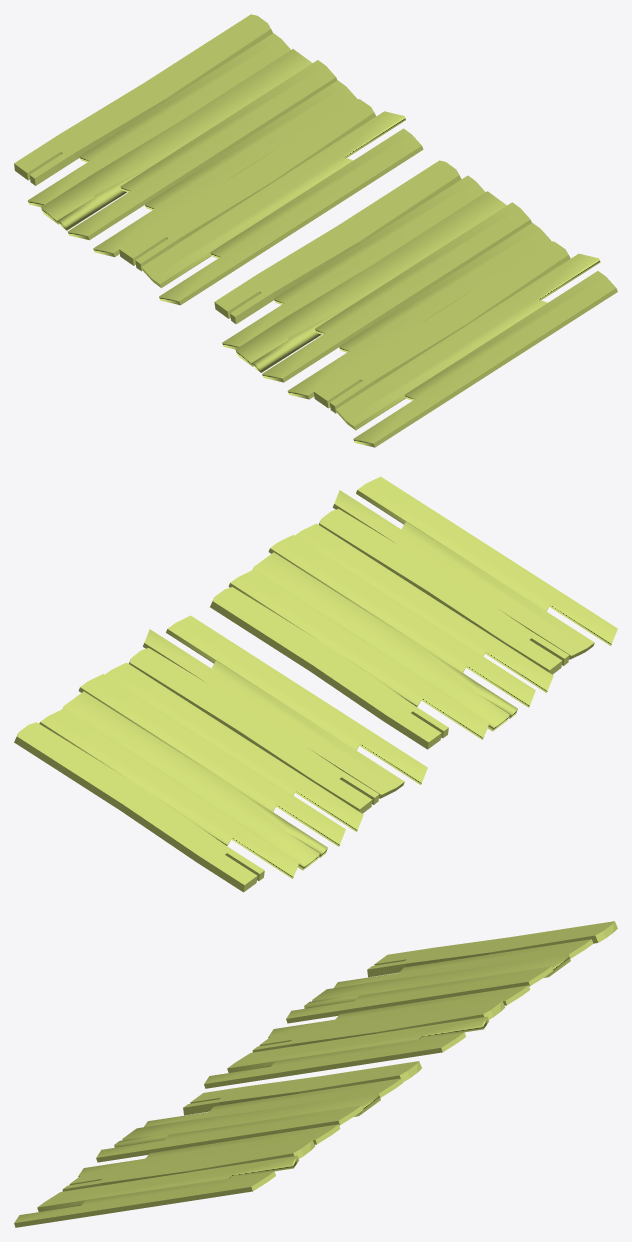
The model's file is Beam_Structure_23B_Lod0.fbx.
The picture shows the model from 3 angles, top to bottom: view 1: azimuth 30°, elevation 25°; view 2: azimuth 150°, elevation 25°; view 3: azimuth 330°, elevation 25°; orthographic projection. The views are drawn at different scales.
Visible parts, largest first — view 1: Beam_Structure_23B_Lod0; view 2: Beam_Structure_23B_Lod0; view 3: Beam_Structure_23B_Lod0.
Part boxes in pixels (<box>): Beam_Structure_23B_Lod0: <box>14,14,617,447</box>; Beam_Structure_23B_Lod0: <box>14,476,617,892</box>; Beam_Structure_23B_Lod0: <box>14,921,617,1227</box>.
Size of the model in its own units: 221 by 86.28 by 529.
